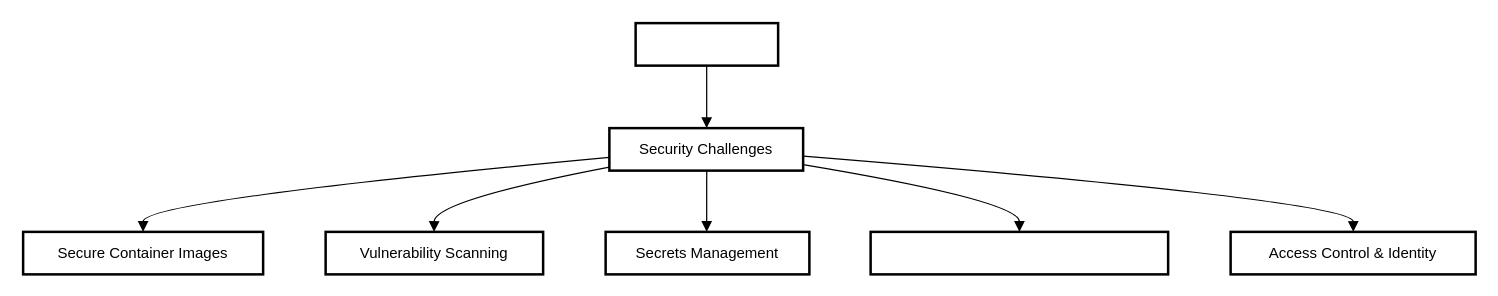
Image size: 1498x296. Some labels were removed from this diagram. The shapes that lost their labels are listed below. From the top down, each one's box as (x1, y1, x2, y2) in pixels, then its label:
(634, 21, 779, 66): CI/CD Process
(869, 230, 1169, 275): Infrastructure as Code Security
